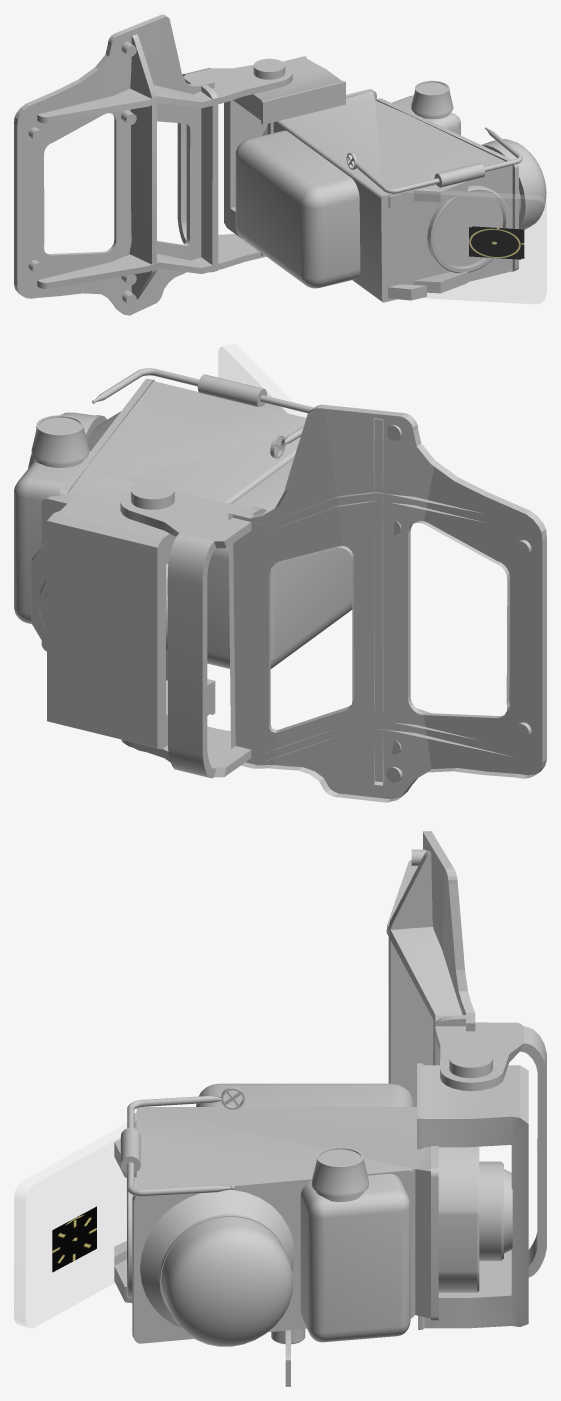
The model's file is MiG-15bis-Headsight.gltf.
3 views of the same model, one above another, from view 1: azimuth 30°, elevation 25°; view 2: azimuth 150°, elevation 25°; view 3: azimuth 270°, elevation 25° (orthographic). The views are drawn at different scales.
Visible parts, largest first — view 1: HS_GHolder, HS_Base, HS_Glass, HS_PGlass, HS_SRing, HS_Ring, HS_Vern, HS_Frame; view 2: HS_Base, HS_GHolder, HS_Vern, HS_Glass, HS_Frame, HS_SRing; view 3: HS_GHolder, HS_Base, HS_SRing, HS_Glass, HS_DCyl, HS_Vern, HS_Frame, HS_Cross, HS_Switch.
Boxes of the visible parts, <box> form: HS_GHolder: <box>224,56,518,302</box>; HS_Base: <box>14,14,292,315</box>; HS_Glass: <box>399,189,546,303</box>; HS_PGlass: <box>436,193,504,267</box>; HS_SRing: <box>481,139,546,229</box>; HS_Ring: <box>469,227,521,259</box>; HS_Vern: <box>411,80,453,119</box>; HS_Frame: <box>346,127,522,193</box>; HS_Base: <box>120,404,546,802</box>; HS_GHolder: <box>14,374,352,751</box>; HS_Vern: <box>31,415,88,467</box>; HS_Glass: <box>218,344,306,417</box>; HS_Frame: <box>92,368,313,458</box>; HS_SRing: <box>28,411,124,468</box>; HS_GHolder: <box>114,1049,528,1343</box>; HS_Base: <box>386,831,546,1277</box>; HS_SRing: <box>140,1190,294,1346</box>; HS_Glass: <box>14,1118,136,1328</box>; HS_DCyl: <box>479,1161,512,1260</box>; HS_Vern: <box>311,1147,368,1201</box>; HS_Frame: <box>127,1087,244,1196</box>; HS_Cross: <box>52,1208,96,1272</box>; HS_Switch: <box>271,1329,305,1386</box>.
Size of the model in its own units: 0.3358 by 0.2045 by 0.2546.
